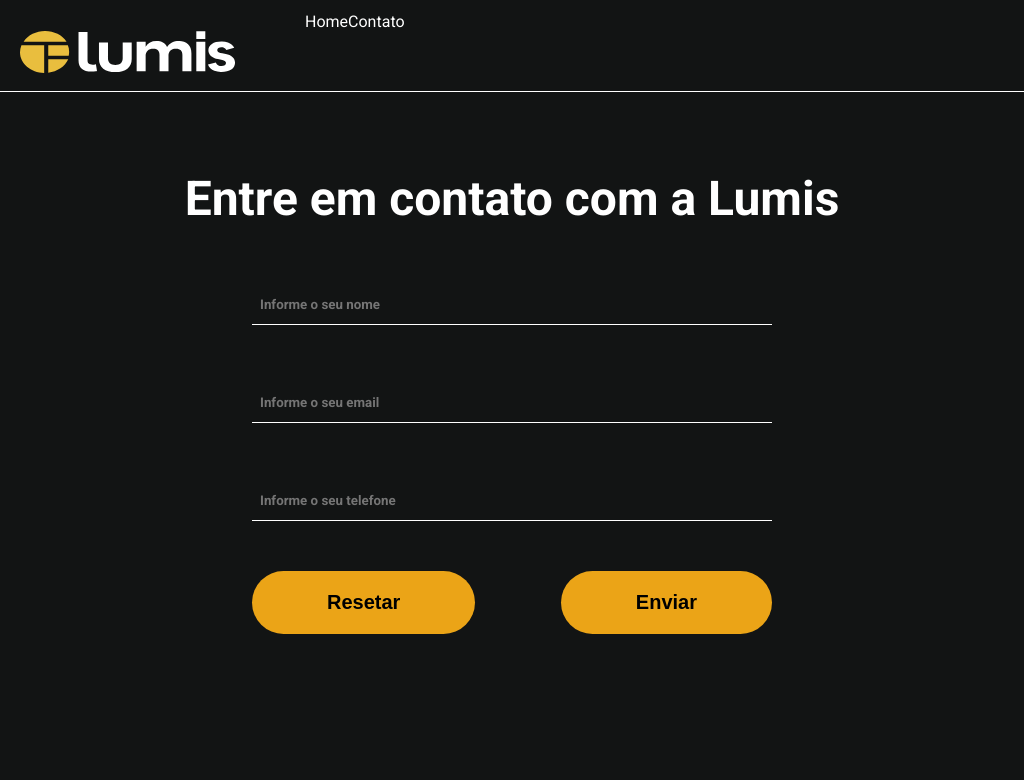
Contact Page › displays error when submit button has been pressed
Click the button "Enviar" at point(666, 602), box [561,571,772,634]
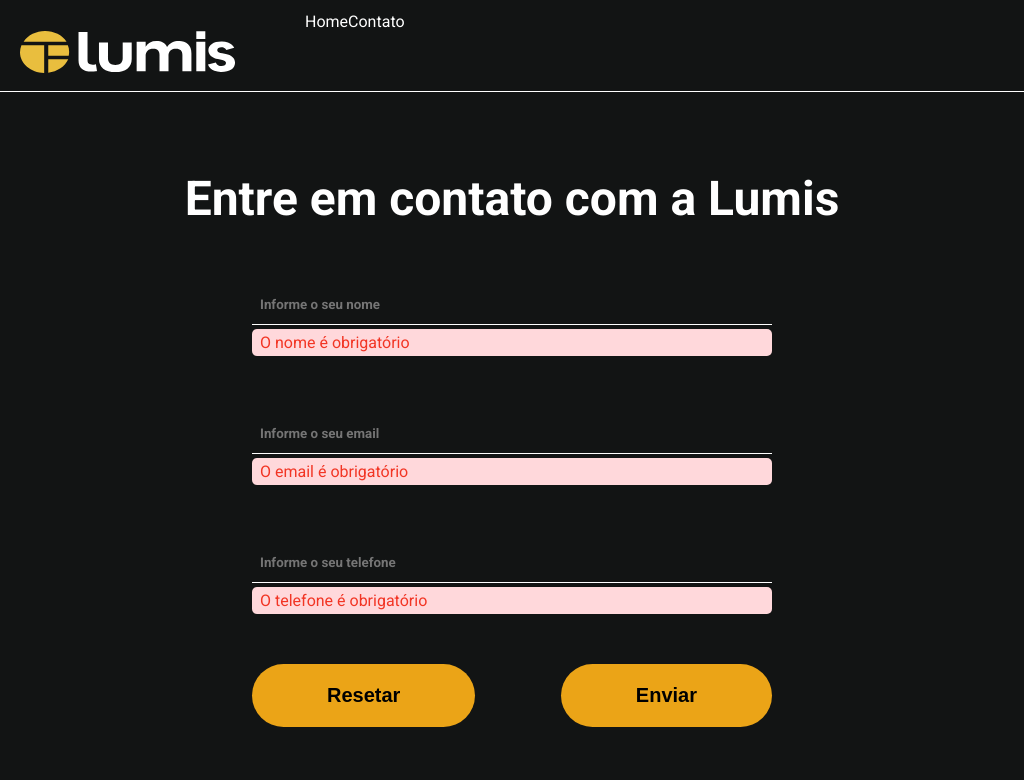
Expected: the number of elements with test id "error" is 3, [252,329,772,356]; [252,458,772,485]; [252,587,772,614]
Expected: the text "O nome é obrigatório" is shown, [252,329,772,356]
